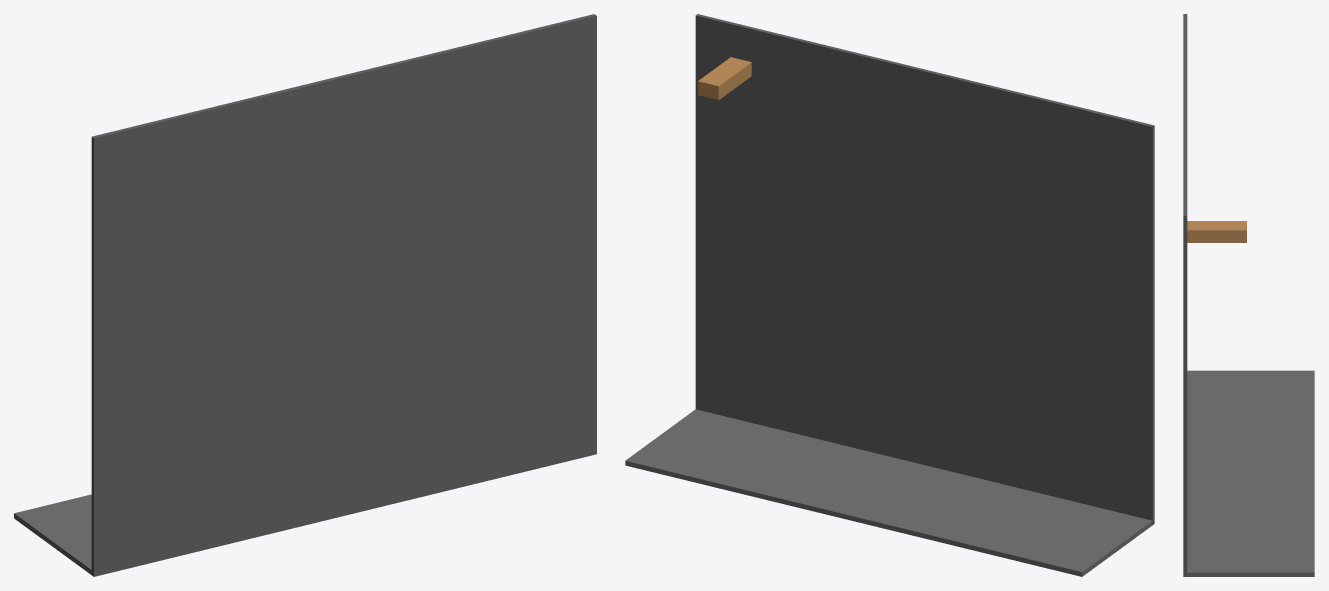
File: diagnostic.glb
3 renders of one model, left to right at view 1: azimuth 30°, elevation 25°; view 2: azimuth 150°, elevation 25°; view 3: azimuth 270°, elevation 25°, orthographic. The views are drawn at different scales.
Parts seen in each view (by area): view 1: diagnostic_ground, diagnostic_backwall; view 2: diagnostic_ground, diagnostic_backwall, diagnostic_charger_pedestal; view 3: diagnostic_backwall, diagnostic_ground, diagnostic_charger_pedestal.
Part boxes in pixels (x1,y1,x2,y2): diagnostic_ground: (91, 14, 596, 576); diagnostic_backwall: (14, 494, 91, 574); diagnostic_ground: (695, 14, 1154, 525); diagnostic_backwall: (625, 409, 1152, 576); diagnostic_charger_pedestal: (698, 57, 751, 100); diagnostic_backwall: (1187, 370, 1314, 576); diagnostic_ground: (1183, 14, 1187, 576); diagnostic_charger_pedestal: (1187, 221, 1246, 242).
Bounding box in the file's own units: 12 × 10 × 3.3.
